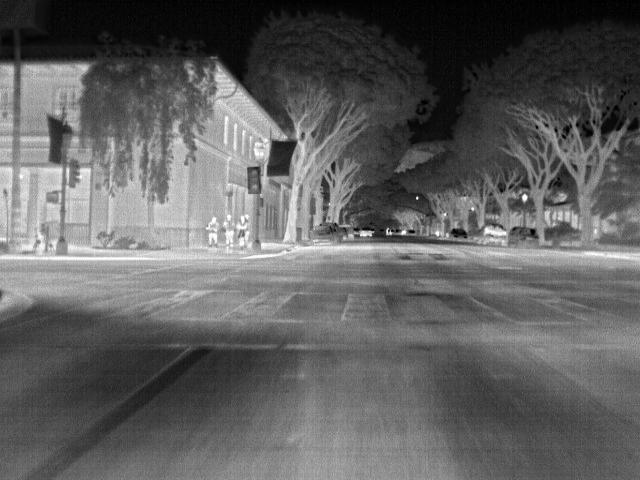car: (472, 222, 510, 248), (508, 226, 541, 247), (308, 226, 336, 246), (445, 228, 471, 242), (355, 226, 375, 240)
person: (234, 213, 252, 248), (207, 214, 221, 248), (222, 213, 235, 248)
